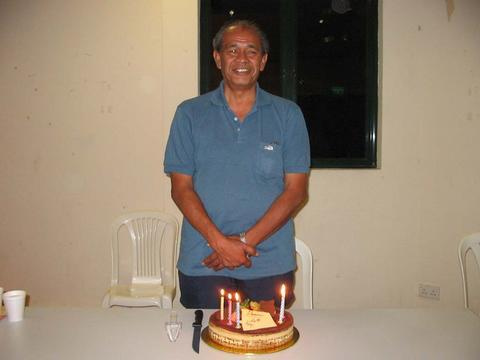without_mask: (215, 26, 268, 89)
